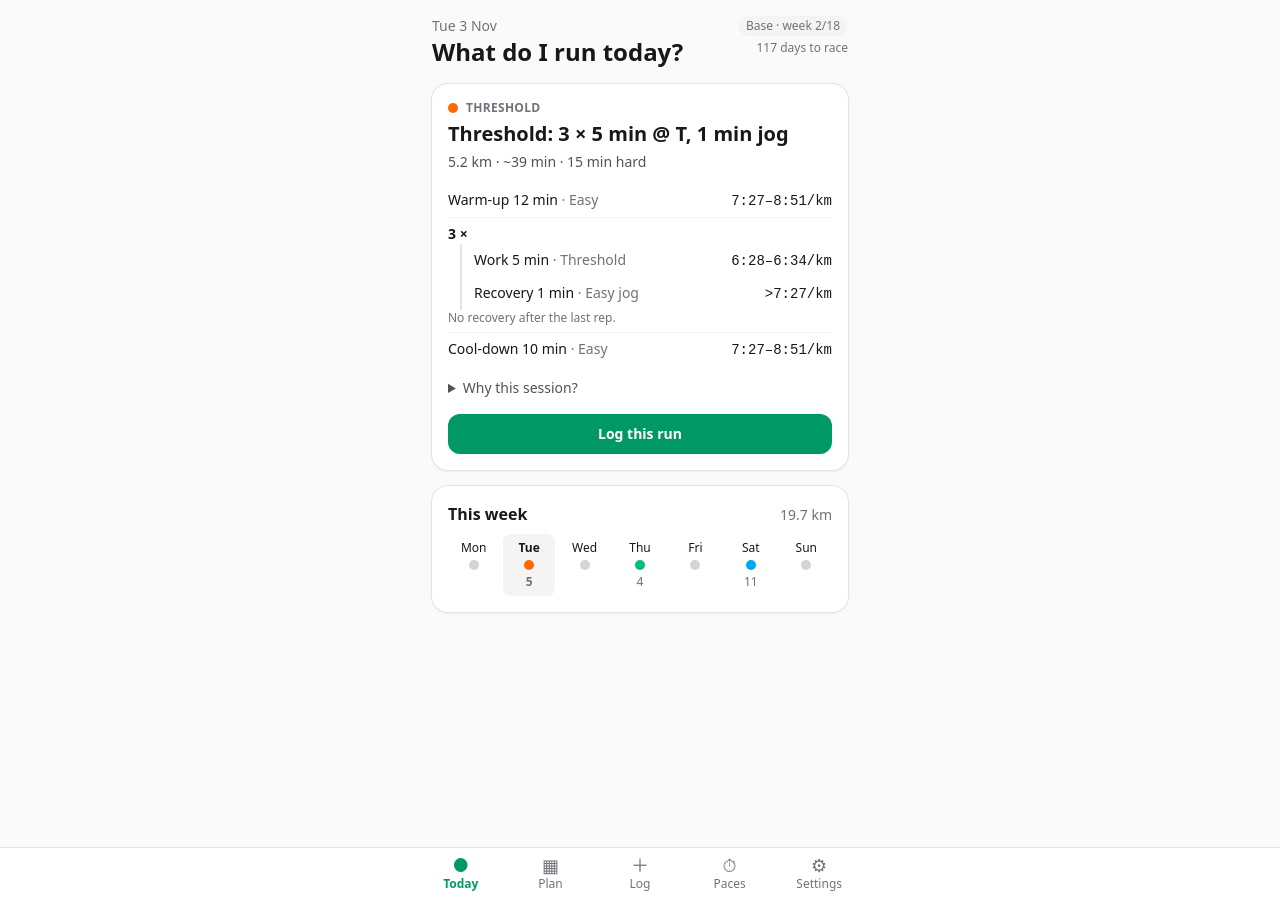
Test: logging a run › rejects a run without a valid time
Click the button "＋ Log" at (640,874), box top-left (595, 848), bottom-right (685, 899)
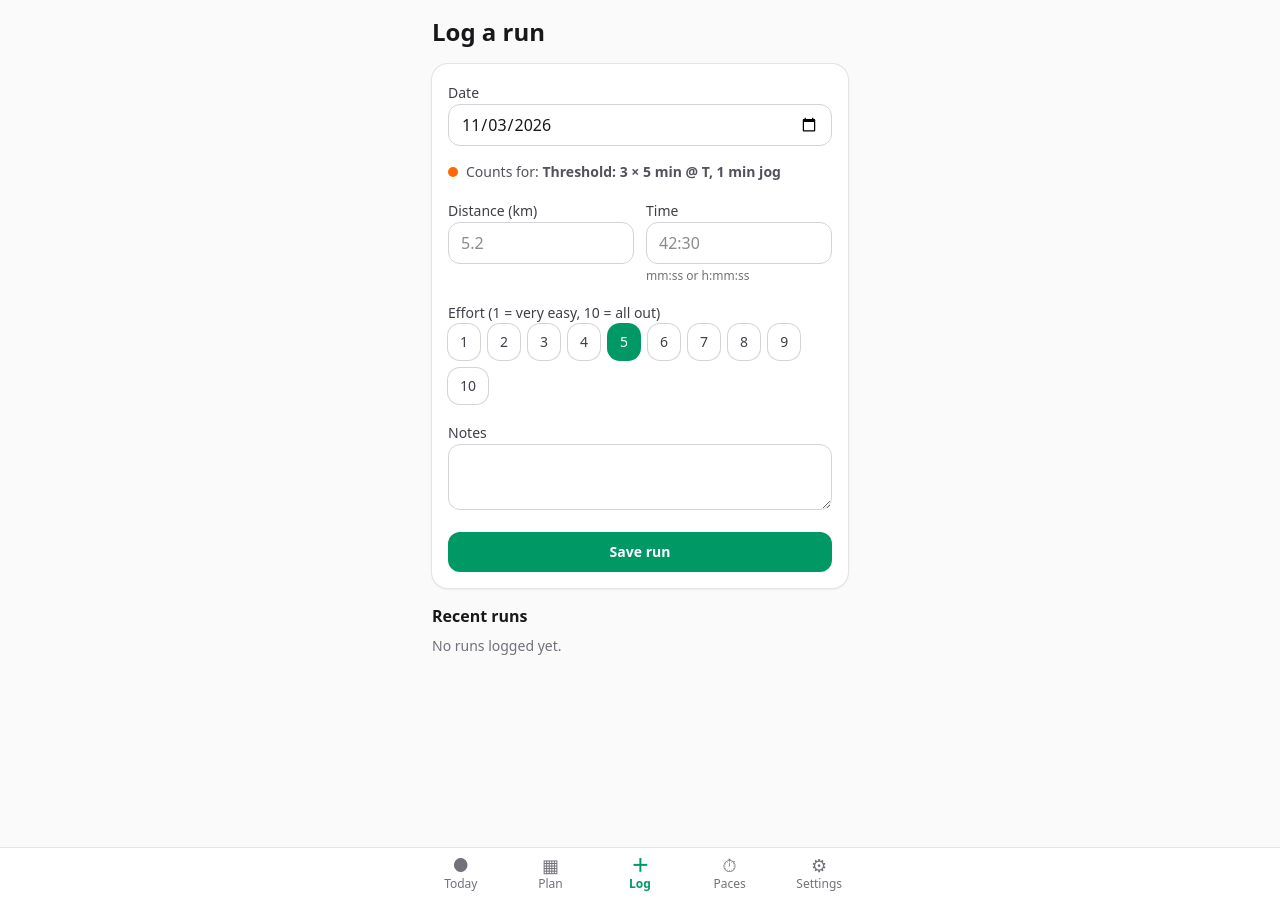
Type "5" into the field labelled "Distance (km)" at (541,243), box top-left (448, 222), bottom-right (634, 264)
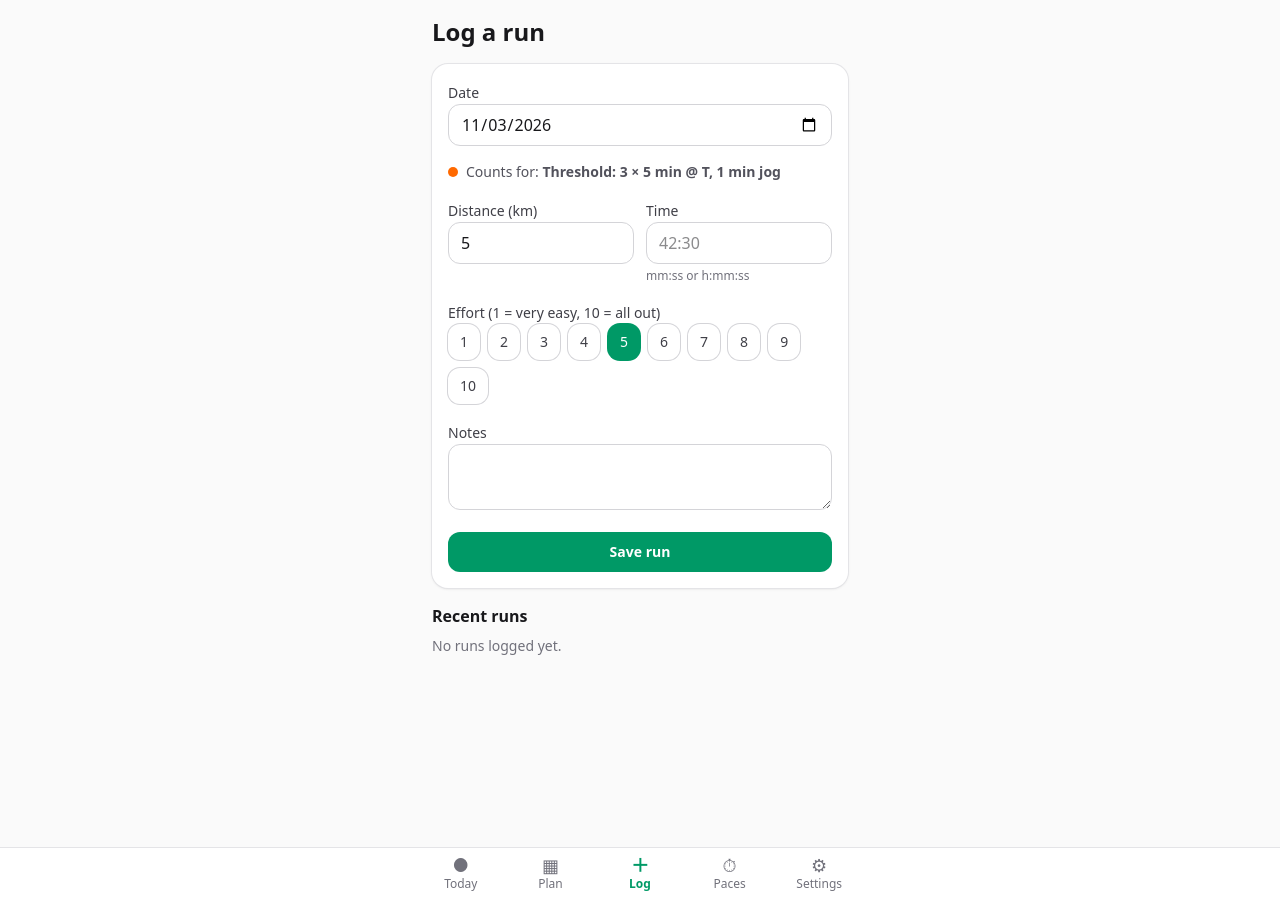
Click the button "Save run" at (640,552), box top-left (448, 532), bottom-right (832, 572)
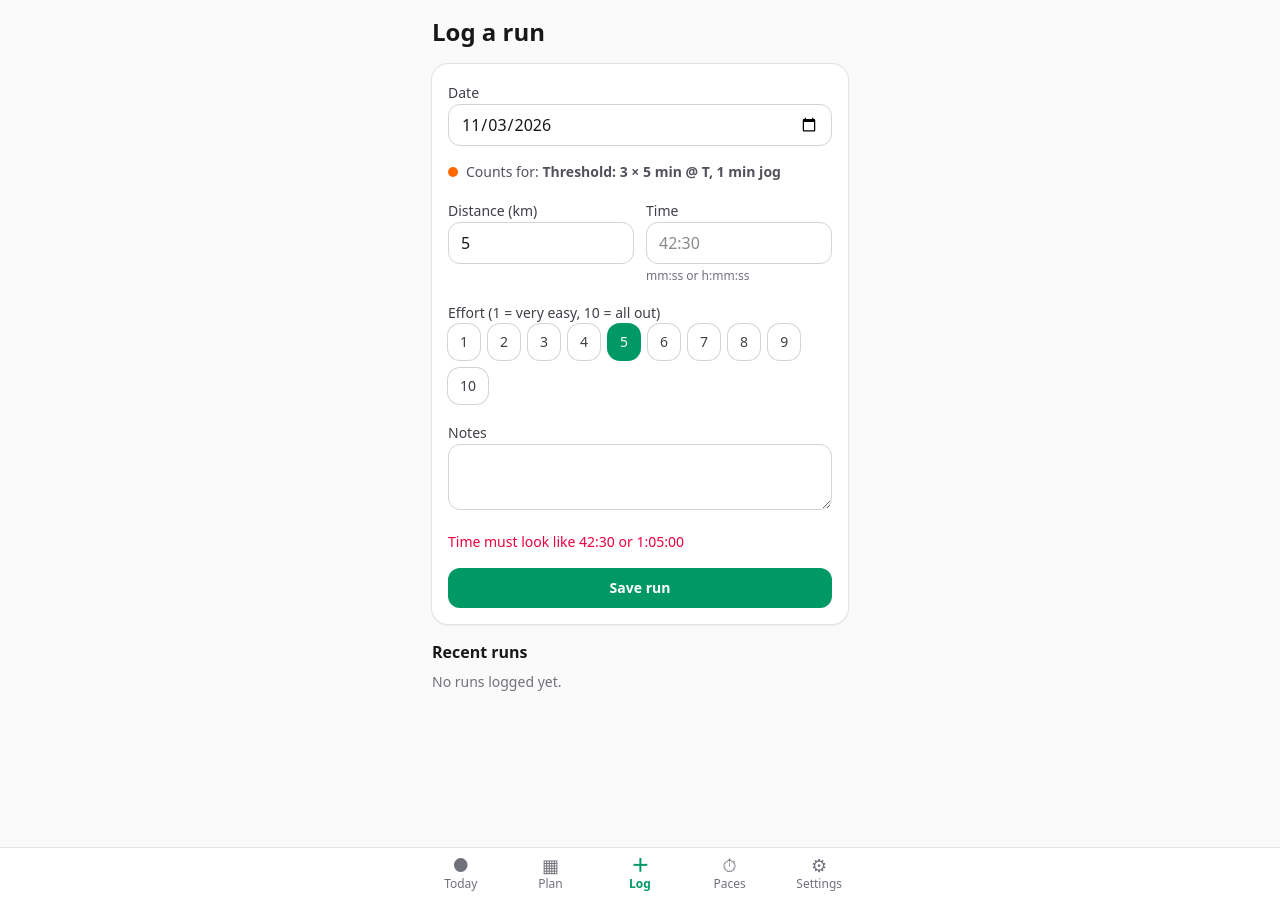
Result: the message shows "Time must look like" at top-left (448, 532), bottom-right (684, 551)
